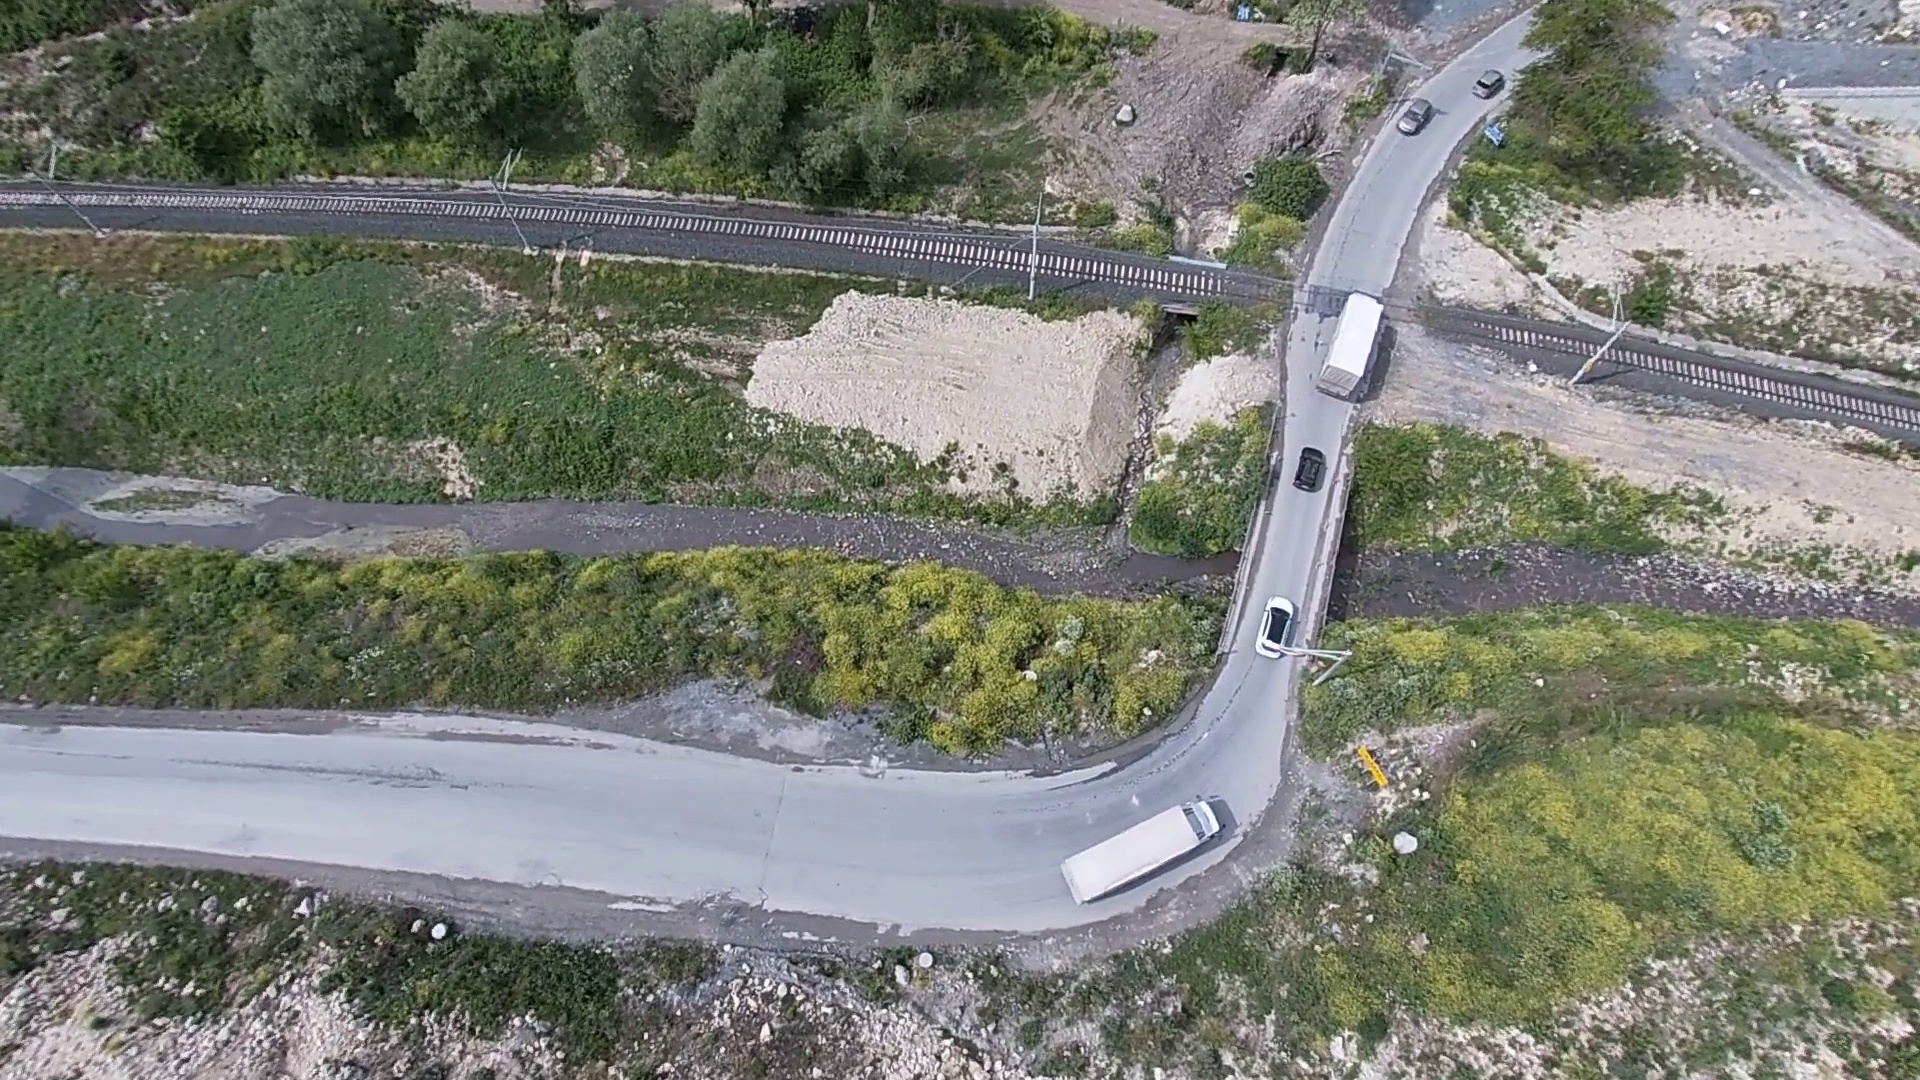arac: (1060, 789, 1236, 918), (1323, 291, 1379, 402), (1251, 593, 1296, 663), (1287, 442, 1335, 505), (1400, 91, 1429, 146), (1474, 69, 1507, 103)
